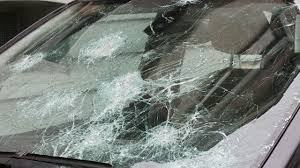Broken-glass: (11, 6, 288, 161)
